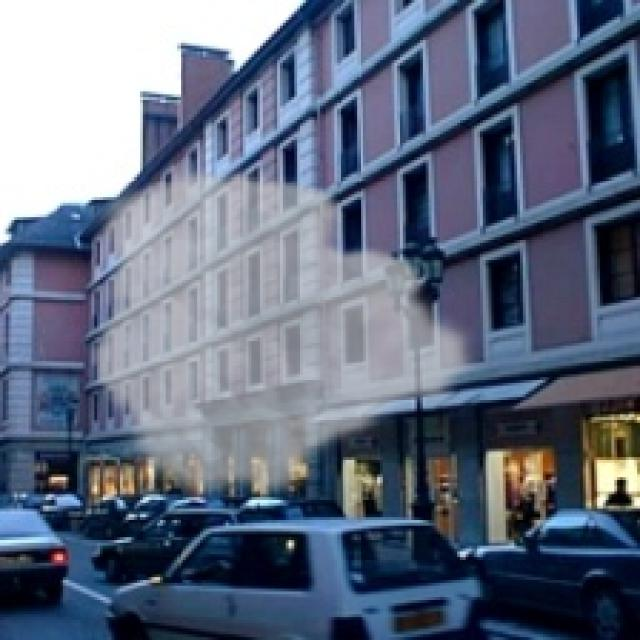smoke: (86, 163, 480, 506)
